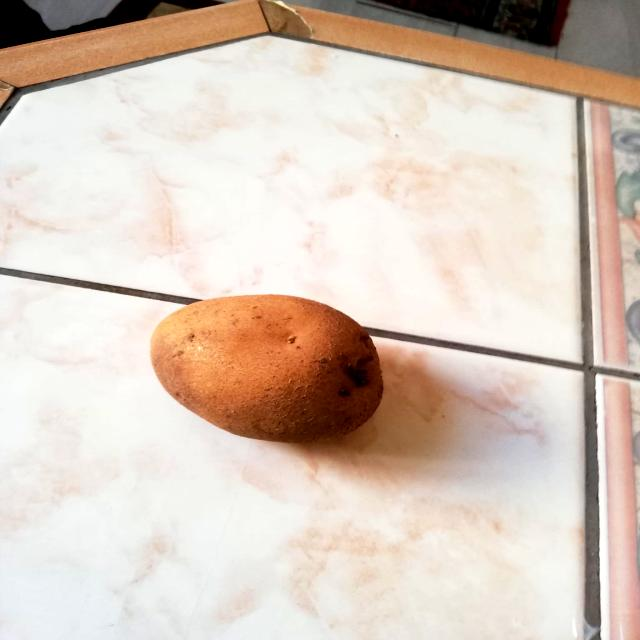potato: (145, 289, 393, 449)
